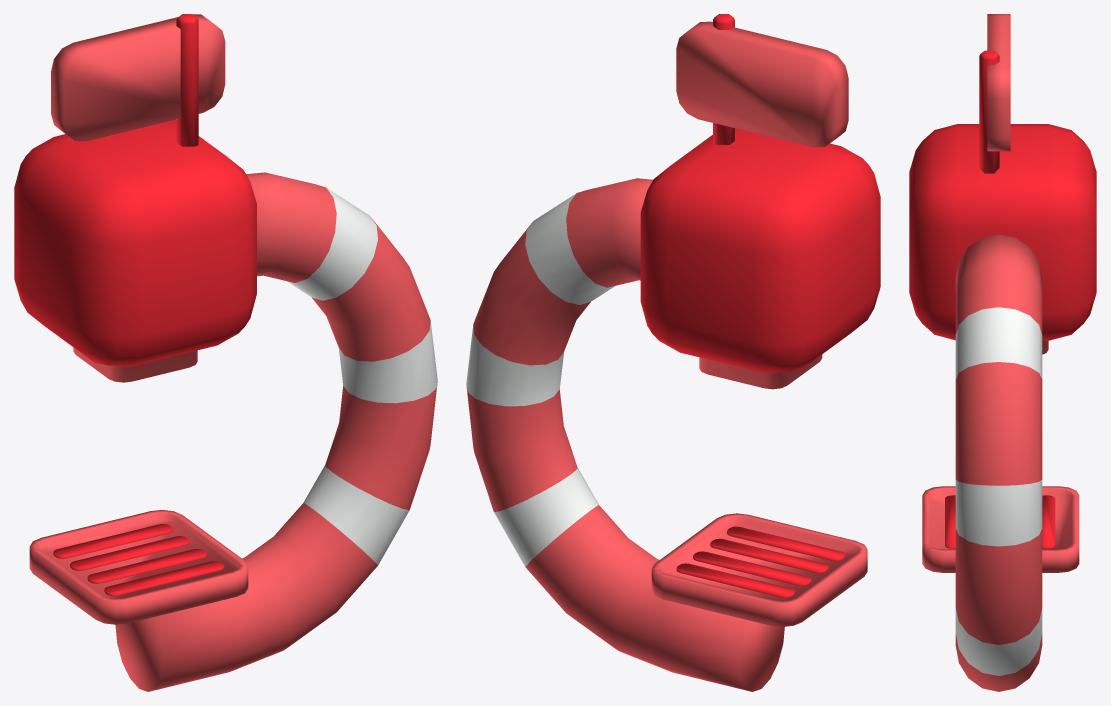
File: Solid food machine4.fbx
The picture shows the model from 3 angles, left to right: view 1: azimuth 30°, elevation 25°; view 2: azimuth 150°, elevation 25°; view 3: azimuth 270°, elevation 25°; orthographic projection. The views are drawn at different scales.
Visible parts, largest first — view 1: Cylinder.026, Cube.072, Cube.073, Cube.074, Cylinder.027, Cube.076, Cube.075, Cube.077, Cube.078; view 2: Cylinder.026, Cube.072, Cube.073, Cube.074, Cube.076, Cube.078, Cube.075, Cube.077, Cylinder.027; view 3: Cylinder.026, Cube.072, Cube.074, Cube.073, Cylinder.027, Cube.078, Cube.077.
Part boxes in pixels (bbox=[...]): Cylinder.026: bbox=[115, 172, 437, 691]; Cube.072: bbox=[14, 119, 256, 382]; Cube.073: bbox=[51, 14, 225, 141]; Cube.074: bbox=[29, 510, 248, 624]; Cylinder.027: bbox=[176, 14, 198, 146]; Cube.076: bbox=[87, 549, 207, 583]; Cube.075: bbox=[70, 536, 189, 570]; Cube.077: bbox=[104, 561, 223, 596]; Cube.078: bbox=[53, 523, 172, 558]; Cylinder.026: bbox=[466, 178, 784, 691]; Cube.072: bbox=[640, 128, 880, 389]; Cube.073: bbox=[676, 21, 848, 147]; Cube.074: bbox=[651, 513, 867, 626]; Cube.076: bbox=[710, 538, 828, 573]; Cube.078: bbox=[676, 563, 794, 597]; Cube.075: bbox=[693, 551, 811, 585]; Cube.077: bbox=[727, 526, 845, 561]; Cylinder.027: bbox=[713, 14, 734, 145]; Cylinder.026: bbox=[955, 234, 1042, 691]; Cube.072: bbox=[909, 124, 1096, 354]; Cube.074: bbox=[922, 486, 1079, 572]; Cube.073: bbox=[987, 14, 1010, 151]; Cylinder.027: bbox=[979, 50, 999, 173]; Cube.078: bbox=[1042, 495, 1055, 548]; Cube.077: bbox=[945, 495, 955, 548].
Size of the model in its own units: 119 by 198 by 55.61.
